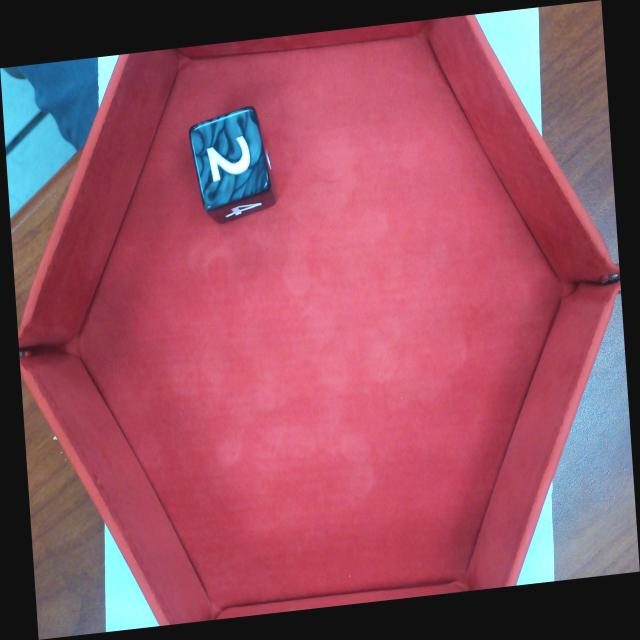dice: (187, 101, 276, 218)
